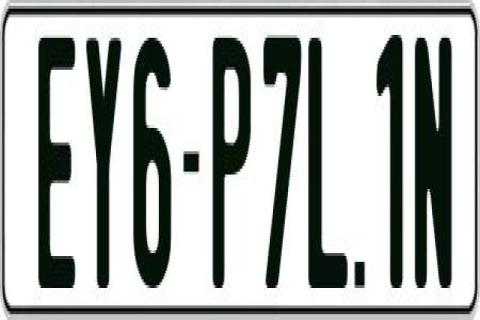0: (263, 29, 303, 294), (130, 35, 168, 297), (374, 35, 404, 288)
E: (38, 29, 76, 285)
L: (306, 29, 348, 291)
N: (412, 32, 451, 294)
P: (212, 38, 254, 306)
Y: (86, 29, 123, 288)
